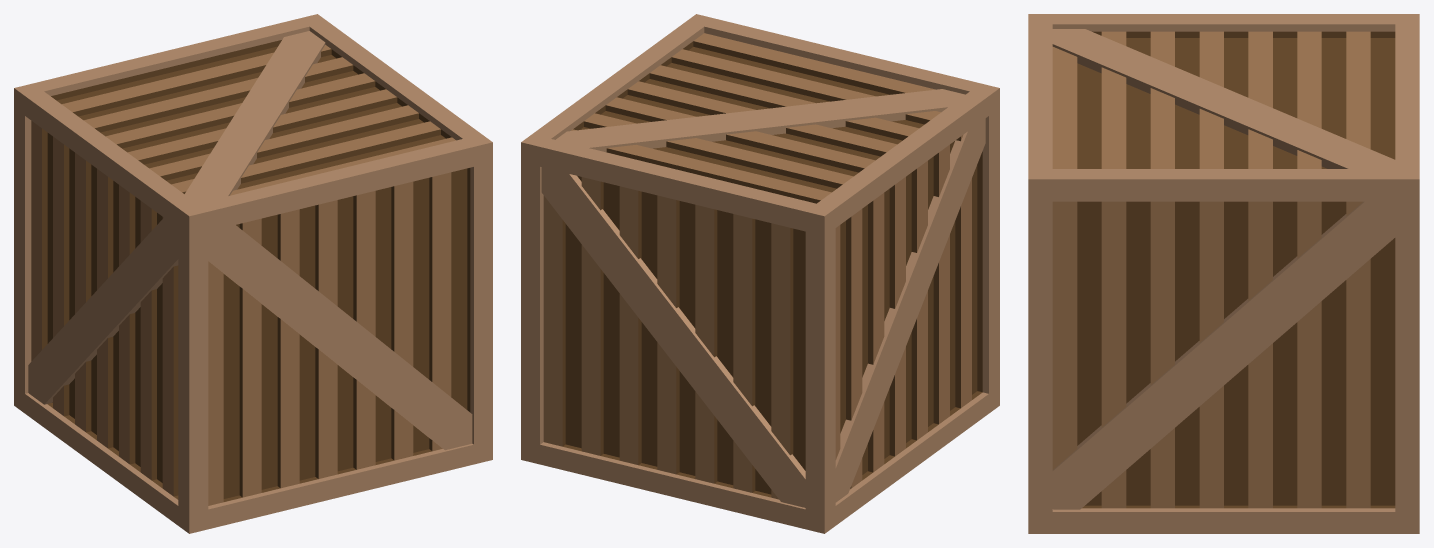
Rendered from CrateV1.fbx.
The picture shows the model from 3 angles, left to right: view 1: azimuth 30°, elevation 25°; view 2: azimuth 150°, elevation 25°; view 3: azimuth 270°, elevation 25°; orthographic projection. The views are drawn at different scales.
Parts seen in each view (by area): view 1: pCube1, pCube5, pCube6, pCube2; view 2: pCube1, pCube3, pCube6, pCube2; view 3: pCube1, pCube4, pCube2.
Part boxes in pixels (x1,y1,x2,y2): pCube1: (14,14,492,533); pCube5: (208,225,472,450); pCube6: (28,218,178,404); pCube2: (184,31,325,203); pCube1: (521,14,999,533); pCube3: (541,167,805,507); pCube6: (835,118,985,502); pCube2: (556,89,964,152); pCube1: (1028,14,1419,533); pCube4: (1052,201,1395,509); pCube2: (1052,29,1395,168).
Size of the model in its own units: 2.86 by 2.86 by 2.86.
